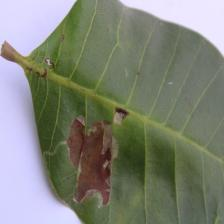leaf miner: (0, 0, 224, 224), (66, 115, 117, 207)
